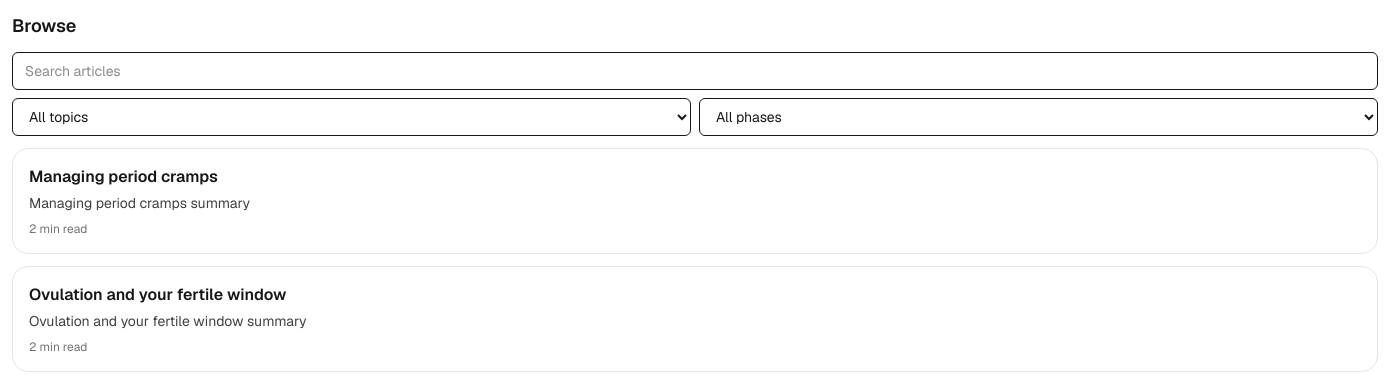
Test case: ContentLibrary › filters the browse list by topic
Select "fertility" in the dropdown named "topic". click: x=352, y=117
box: 12,98 -> 691,136
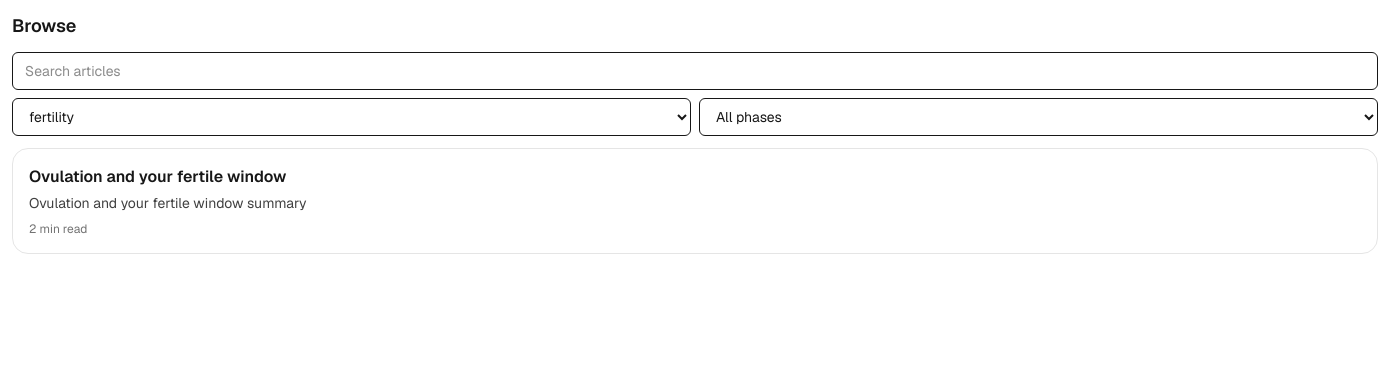
Expected: the heading "Ovulation and your fertile window" is shown, 29,166 -> 286,187
Now the link "Managing period cramps" is gone
